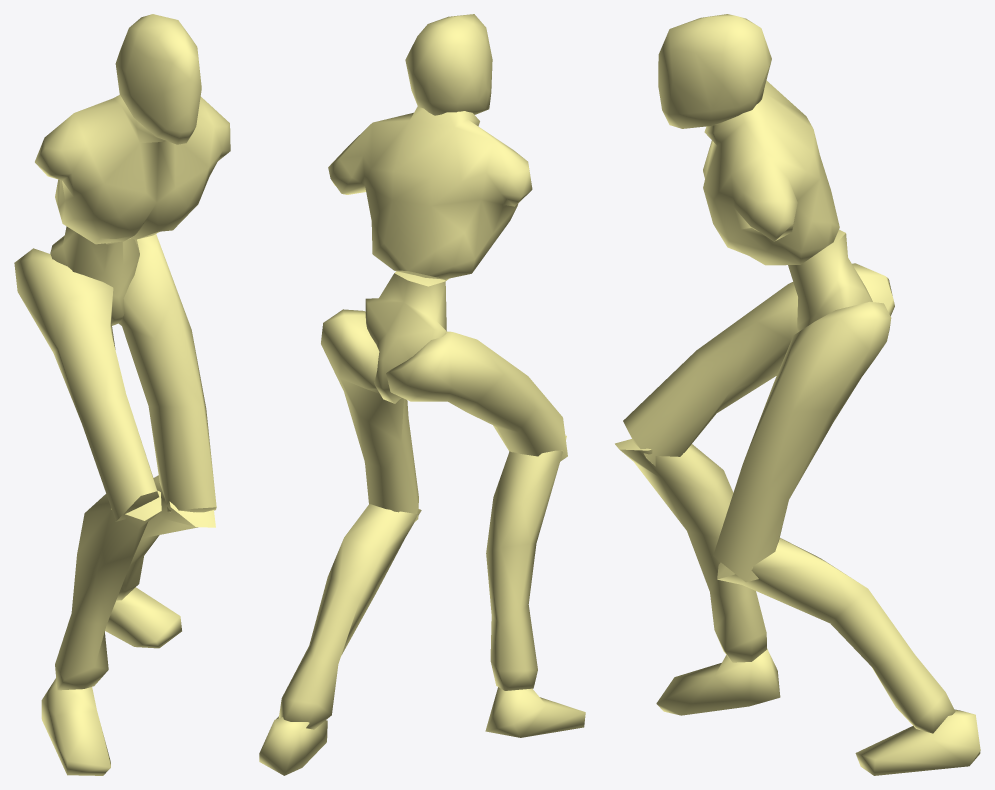
The model's file is filth67.obj.
3 renders of one model, left to right at view 1: azimuth 30°, elevation 25°; view 2: azimuth 150°, elevation 25°; view 3: azimuth 270°, elevation 25°, orthographic. The views are drawn at different scales.
Parts seen in each view (by area): view 1: Melee_Husk; view 2: Melee_Husk; view 3: Melee_Husk.
Boxes of the visible parts, <box> form: Melee_Husk: <box>14,14,230,775</box>; Melee_Husk: <box>259,14,585,775</box>; Melee_Husk: <box>615,14,980,775</box>.
Size of the model in its own units: 22.13 by 71.52 by 32.14.
